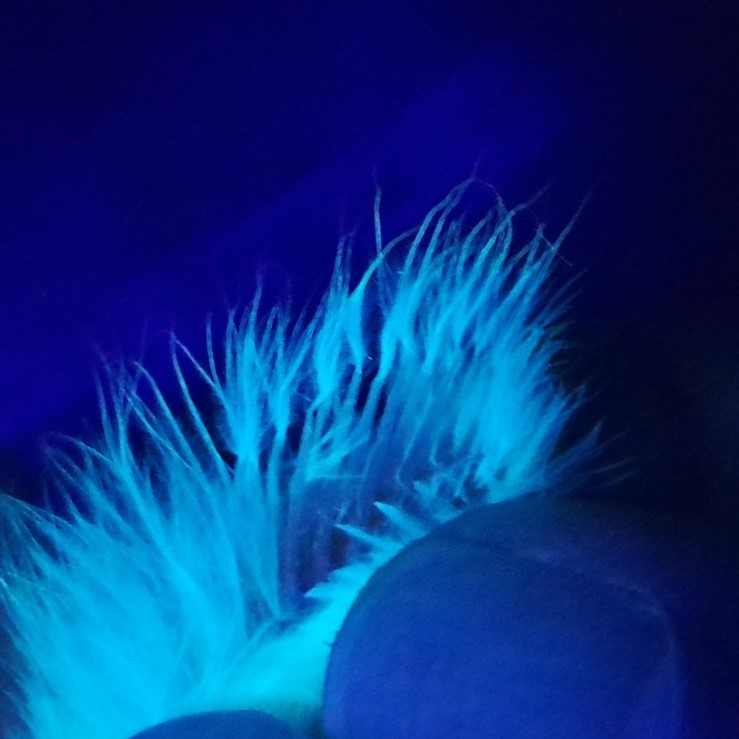male: (257, 321, 531, 601)
